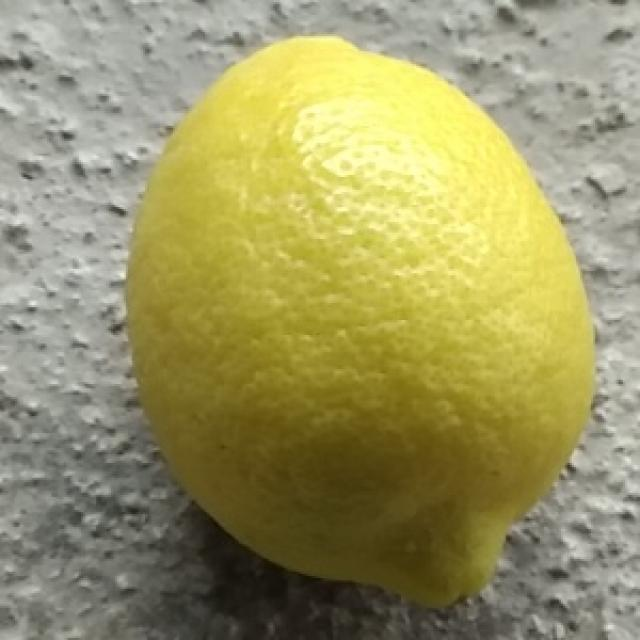Ripe: (119, 25, 601, 613)
